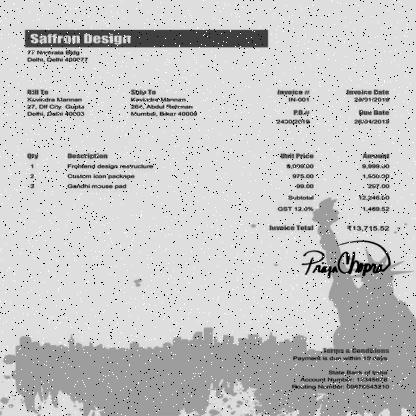Paragraph: (290, 346, 391, 390), (128, 89, 198, 116), (26, 89, 86, 116), (29, 32, 132, 46), (267, 224, 392, 232), (27, 50, 89, 62), (346, 88, 390, 102), (352, 109, 390, 125), (275, 108, 311, 124), (276, 88, 310, 102)
Table: (24, 150, 392, 212)
